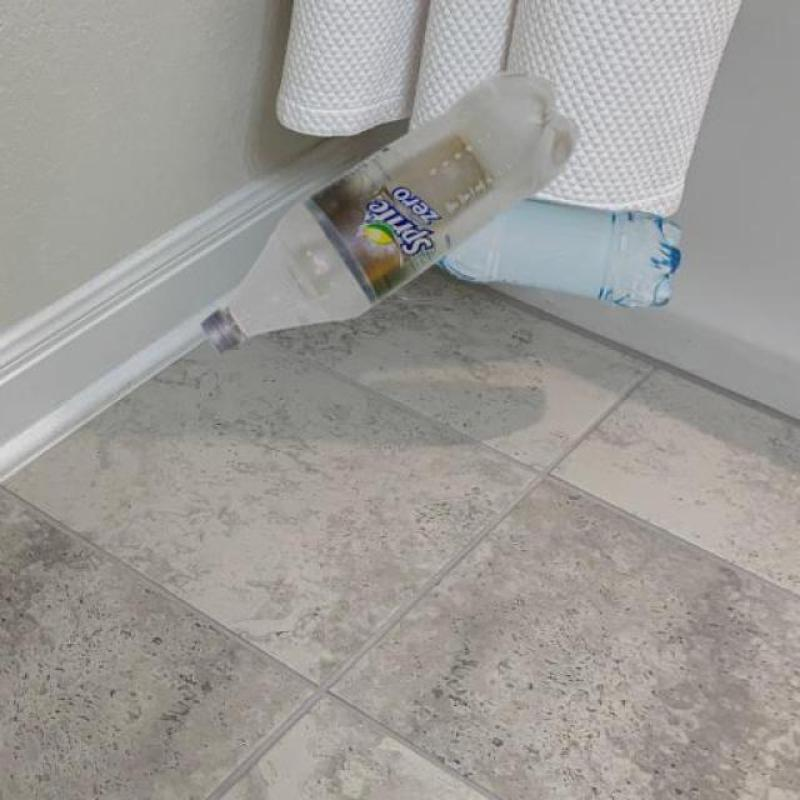botella: (202, 75, 582, 363), (433, 194, 682, 307)
